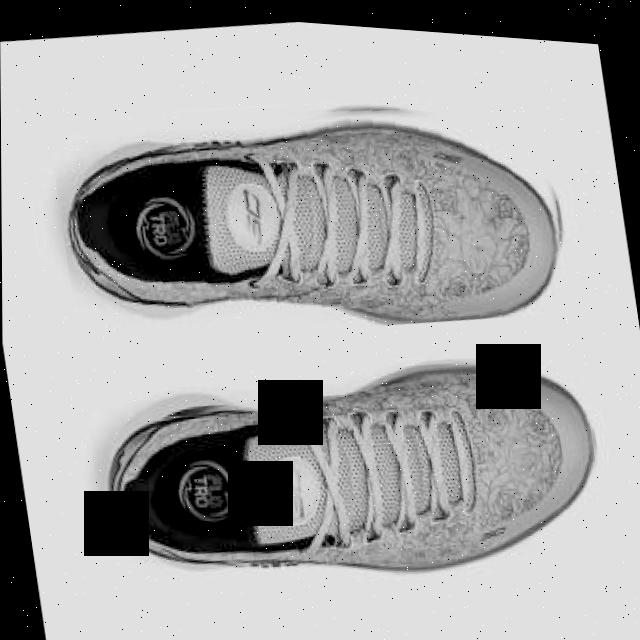shoe: (46, 47, 578, 374), (81, 311, 614, 626)
